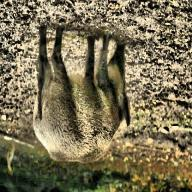boar: (21, 14, 143, 178)
